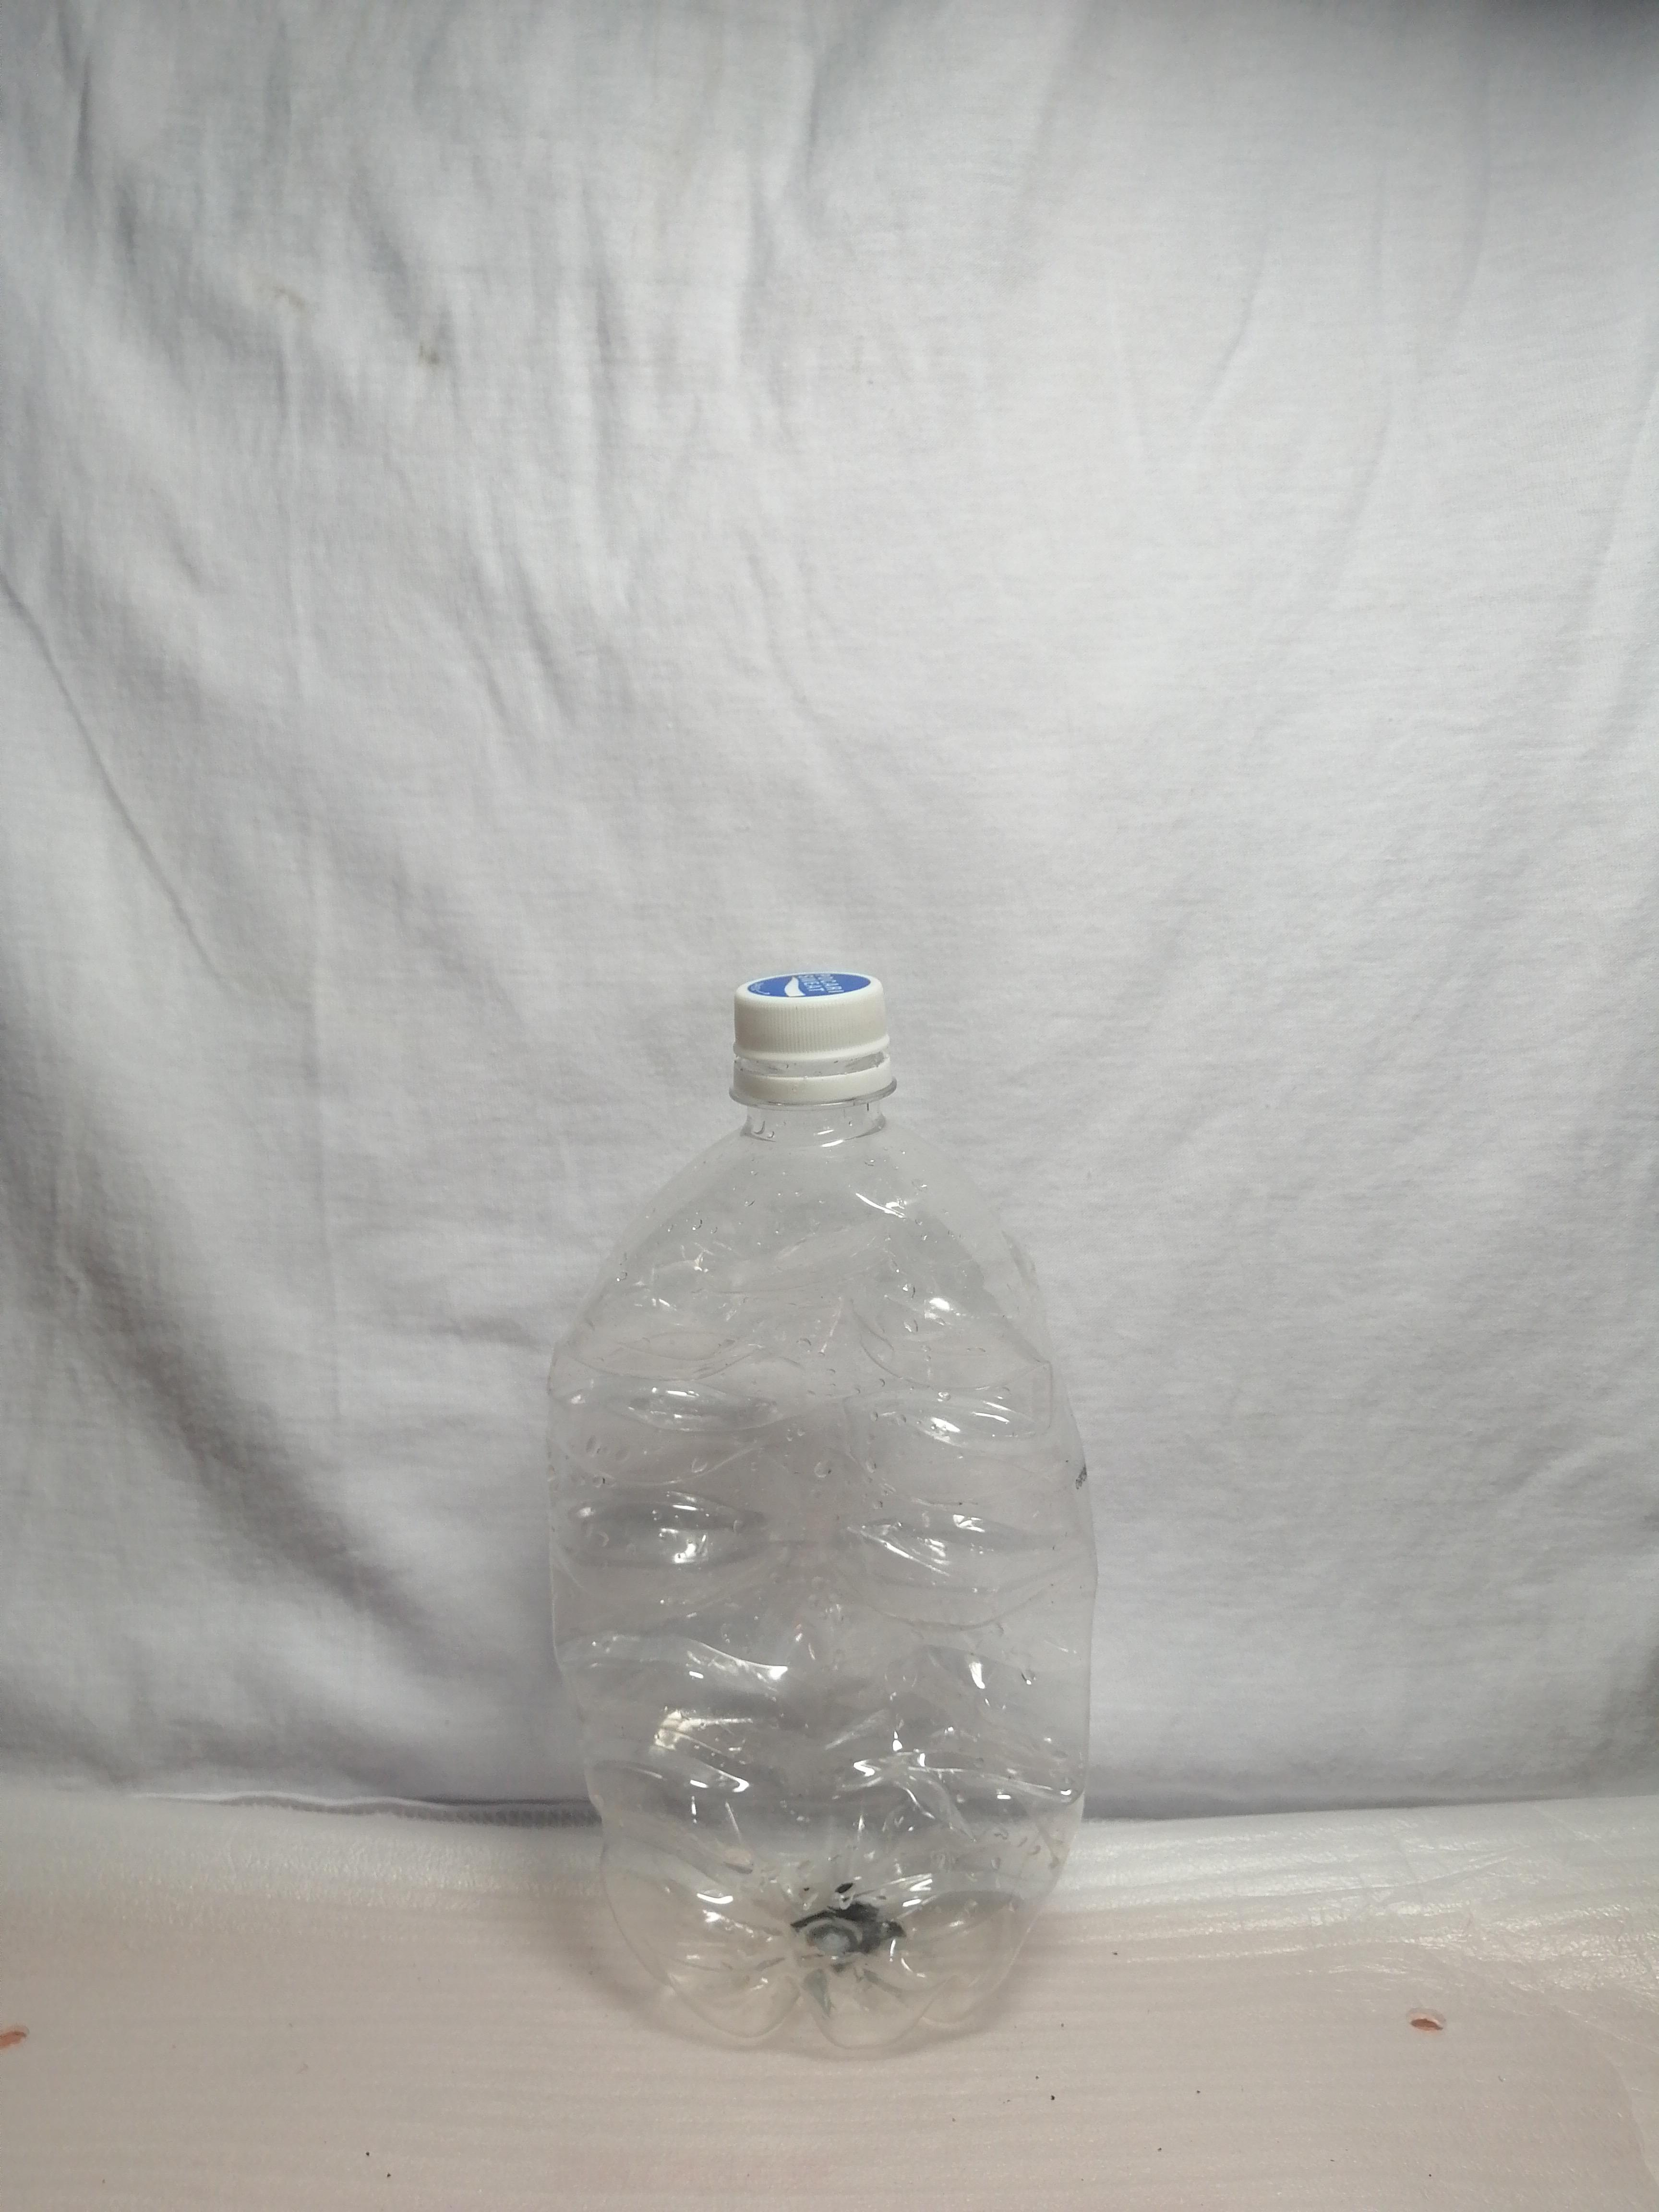plastic-bottle: (528, 936, 1128, 2083)
